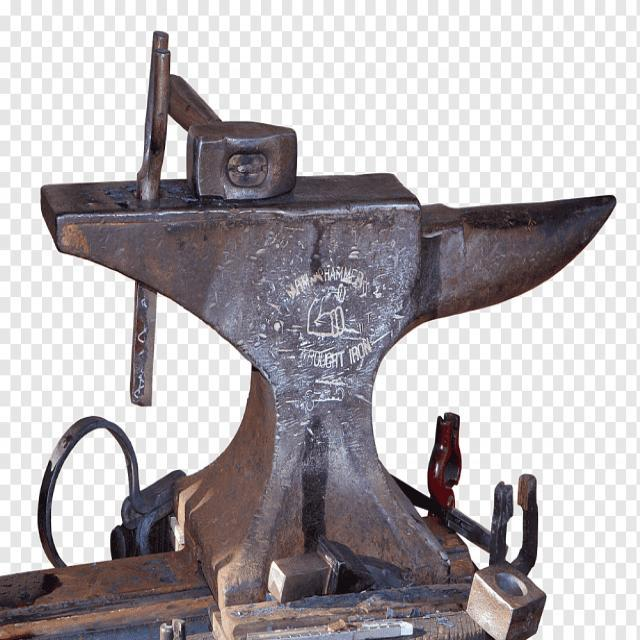hammer: (137, 6, 310, 214)
